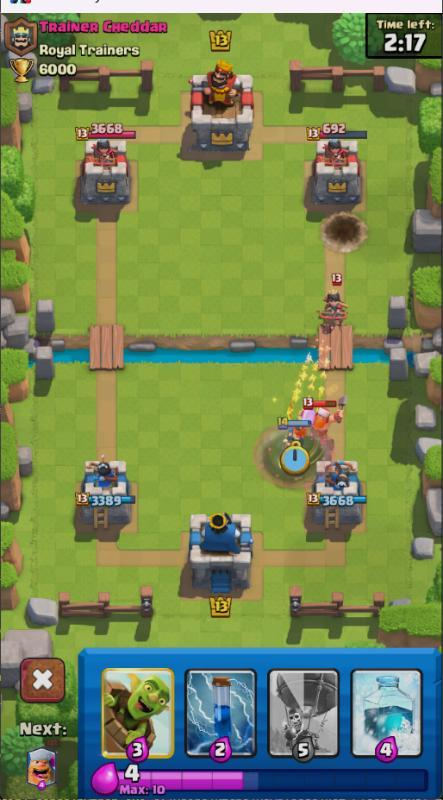enemy_lumberjack: (296, 391, 350, 441)
enemy_princess: (312, 272, 354, 330)
player_valkyrie: (259, 412, 320, 487)
